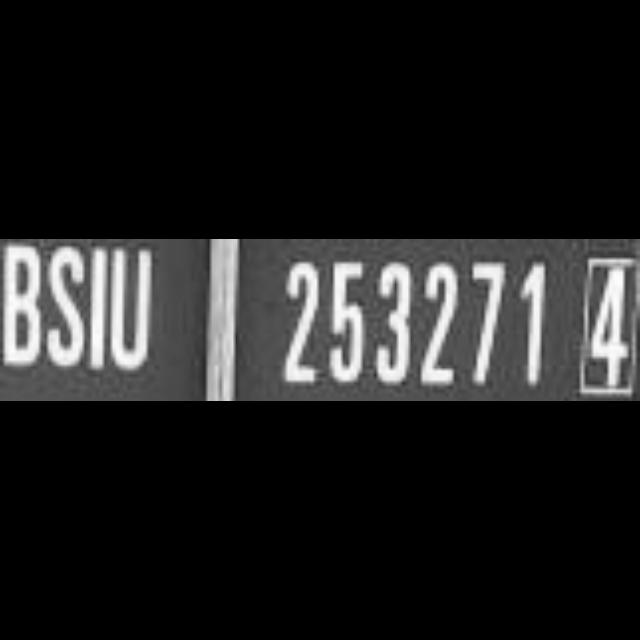1: (517, 256, 551, 394)
2: (278, 254, 322, 386), (419, 252, 461, 390)
3: (372, 254, 412, 386)
4: (576, 254, 640, 394)
5: (326, 253, 369, 392)
7: (466, 250, 509, 388)
b: (1, 240, 44, 374)
i: (92, 239, 110, 373)
s: (44, 243, 90, 371)
u: (110, 239, 156, 375)
